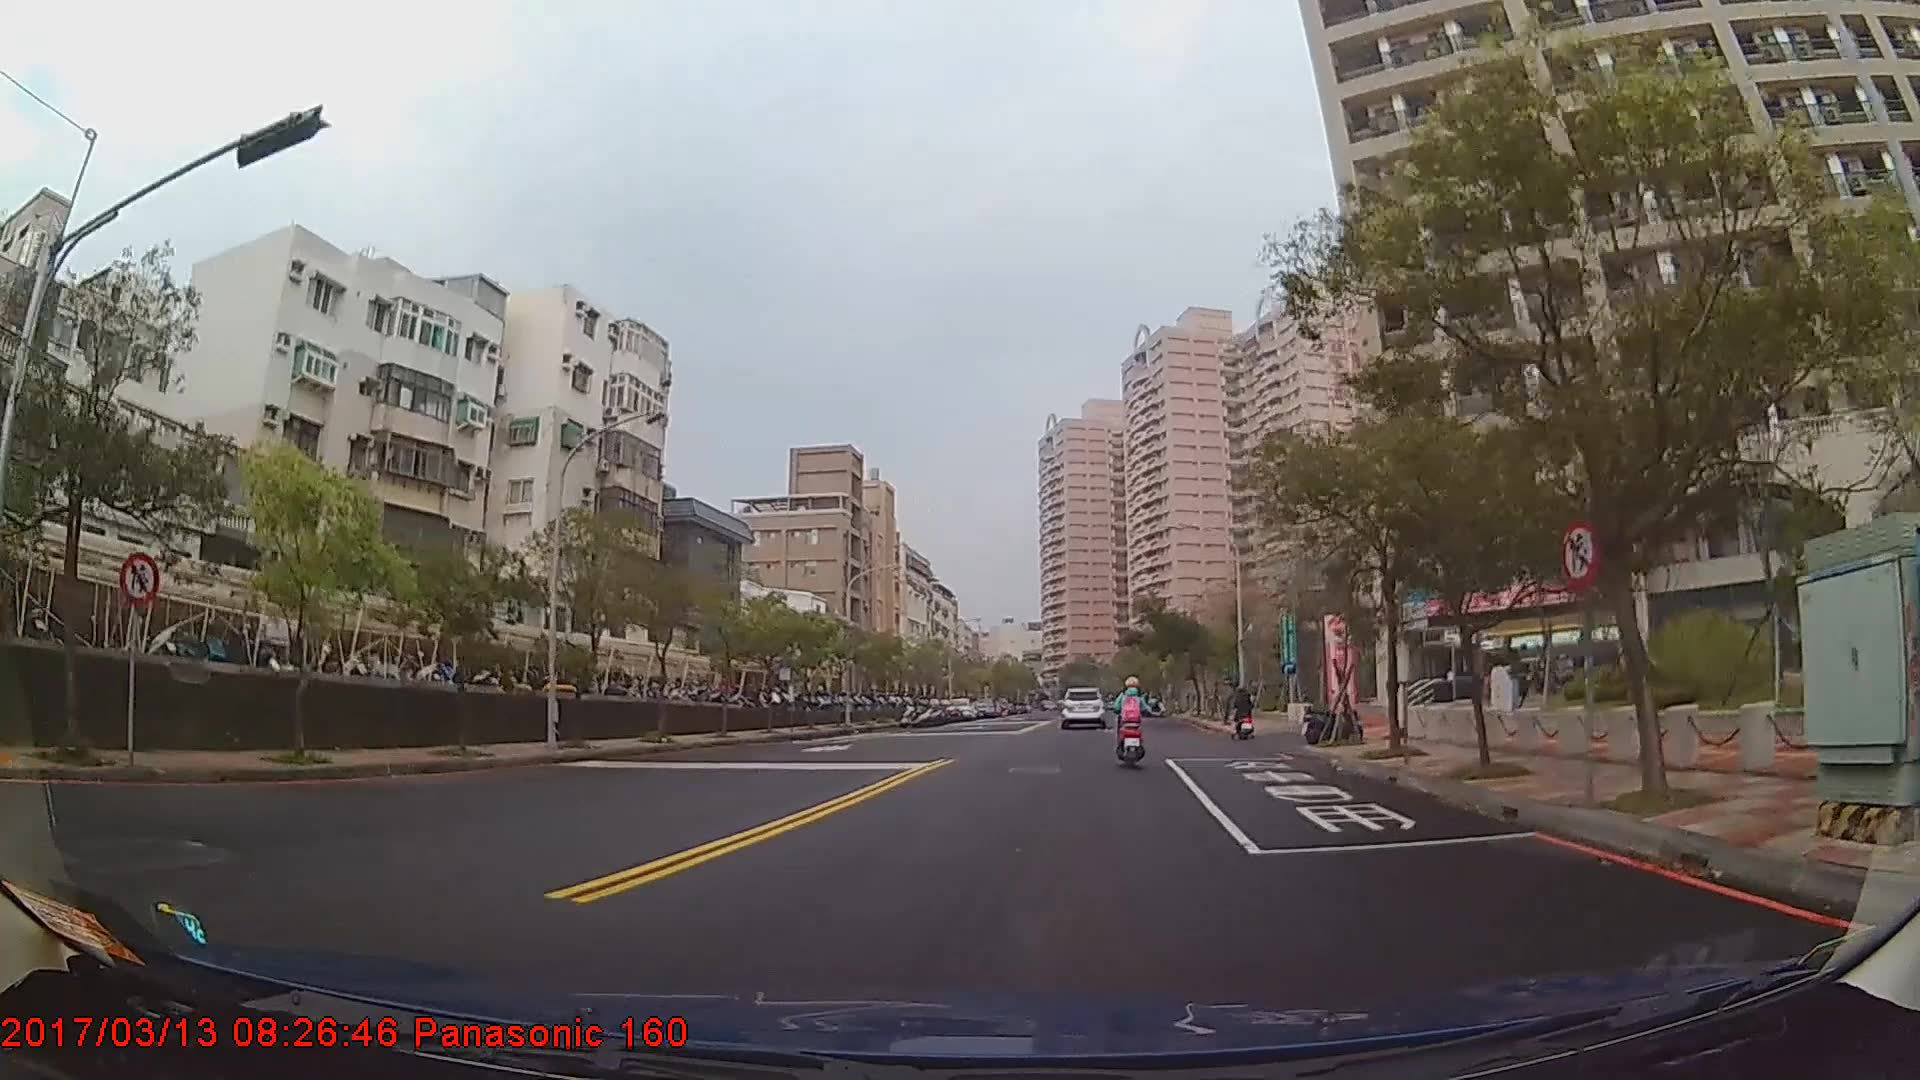rider: (1112, 677, 1158, 763), (1235, 690, 1255, 744)
vehicle: (1061, 687, 1104, 729)
